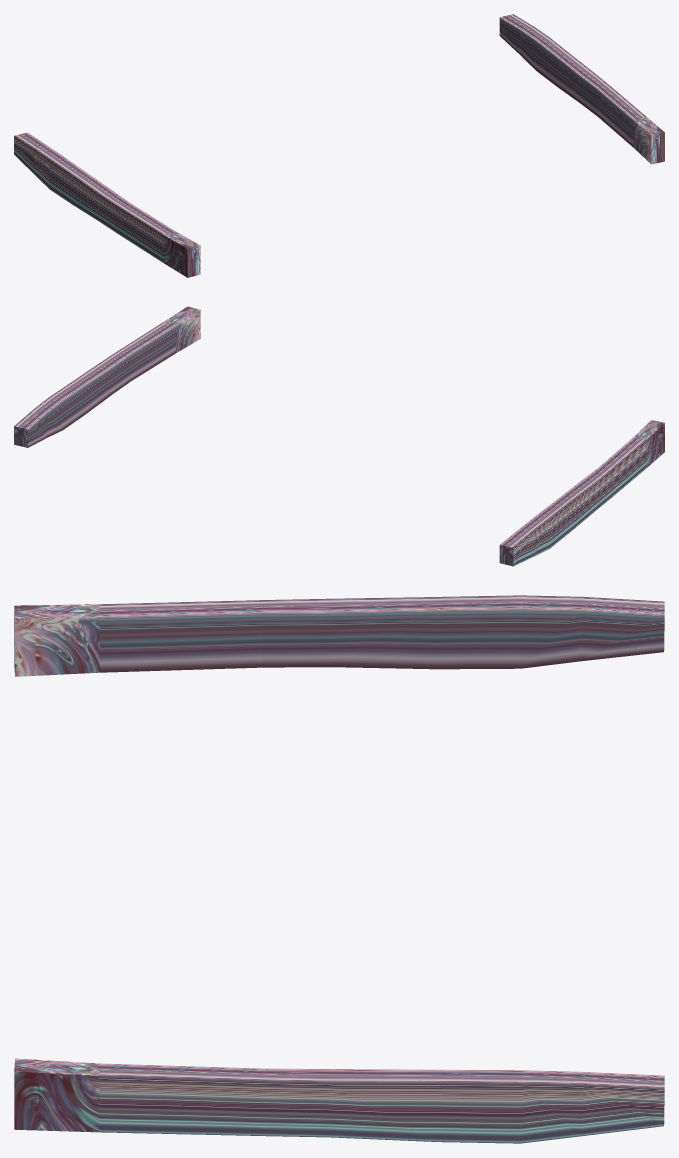
The model's file is arms.obj.
3 renders of one model, top to bottom at view 1: azimuth 30°, elevation 25°; view 2: azimuth 150°, elevation 25°; view 3: azimuth 270°, elevation 25°, orthographic. The views are drawn at different scales.
Parts seen in each view (by area): view 1: Cube.007, Cube.002; view 2: Cube.002, Cube.007; view 3: Cube.002, Cube.007.
Part boxes in pixels (box(x1,y1,x2,y2)): Cube.007: box(14, 132, 200, 277); Cube.002: box(499, 14, 664, 164); Cube.002: box(14, 306, 200, 447); Cube.007: box(499, 420, 664, 566); Cube.002: box(14, 1058, 664, 1143); Cube.007: box(14, 595, 664, 676).
Bounding box in the file's own units: 0.1481 × 0.00863 × 0.0834.
1 material, 1 textured.
